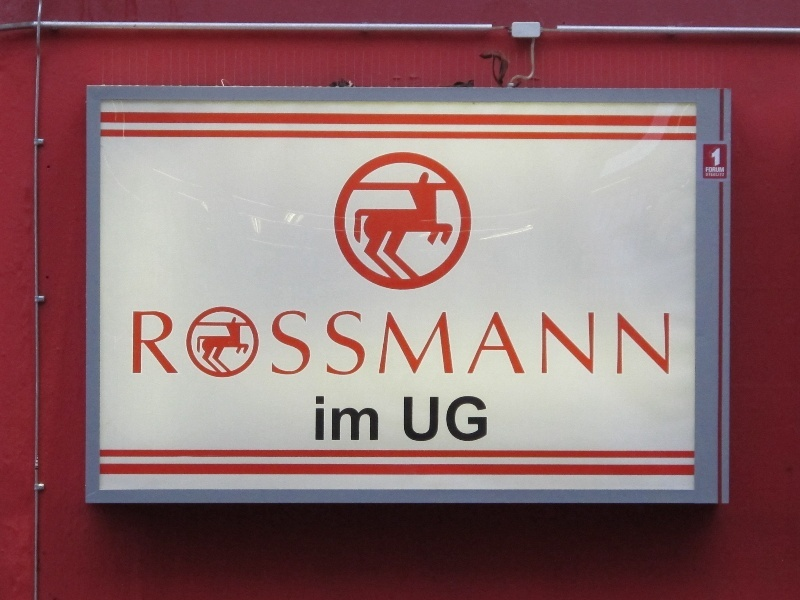text: (273, 312, 288, 377), (289, 312, 304, 377), (305, 312, 320, 377), (321, 312, 336, 377), (337, 312, 352, 377), (353, 312, 368, 377), (369, 312, 384, 377), (385, 312, 400, 377), (401, 312, 416, 377), (417, 312, 432, 377), (433, 312, 448, 377), (449, 312, 464, 377), (465, 312, 480, 377), (481, 312, 496, 377), (497, 312, 512, 377), (513, 312, 528, 377), (529, 312, 544, 377), (545, 312, 560, 377), (561, 312, 576, 377), (577, 312, 592, 377), (593, 312, 608, 377), (609, 312, 624, 377), (625, 312, 640, 377), (641, 312, 656, 377), (657, 312, 672, 377), (145, 312, 160, 376), (161, 312, 176, 376), (321, 395, 336, 443), (337, 395, 352, 443), (353, 395, 368, 443), (417, 396, 432, 443), (433, 396, 448, 443), (449, 396, 464, 443), (465, 396, 480, 443), (402, 396, 416, 443), (134, 312, 144, 376), (369, 395, 381, 443), (177, 312, 183, 376), (481, 396, 488, 443), (711, 148, 720, 167), (317, 395, 320, 443), (706, 167, 720, 174), (706, 173, 720, 177), (721, 167, 725, 174), (721, 173, 725, 177)
